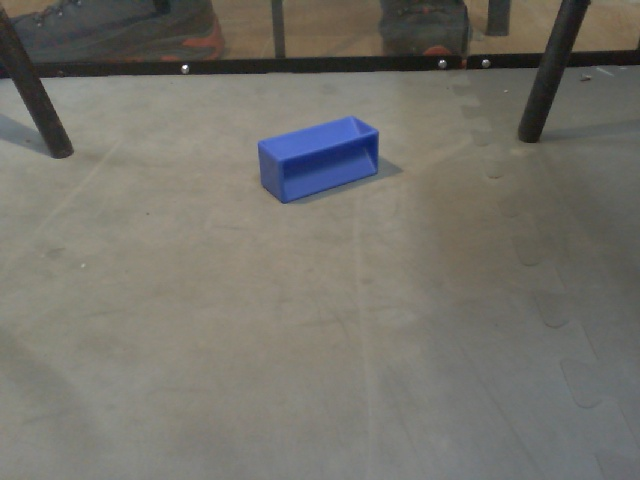BlueSample: (254, 112, 384, 210)
